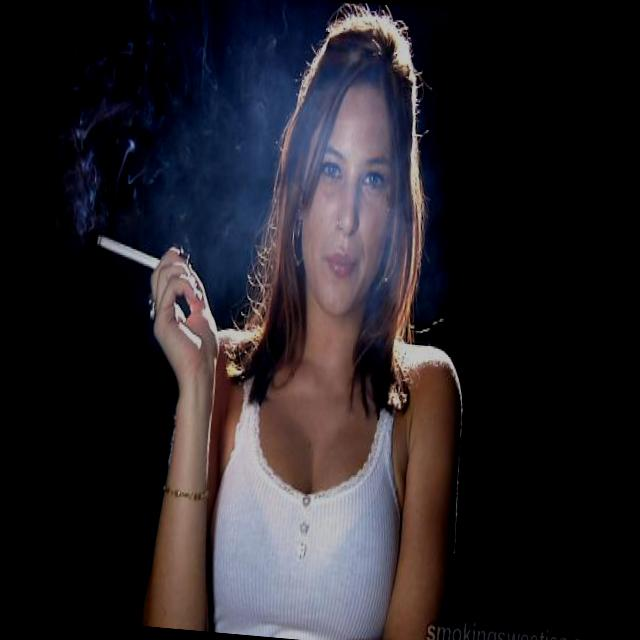cigarette: (79, 212, 187, 297)
